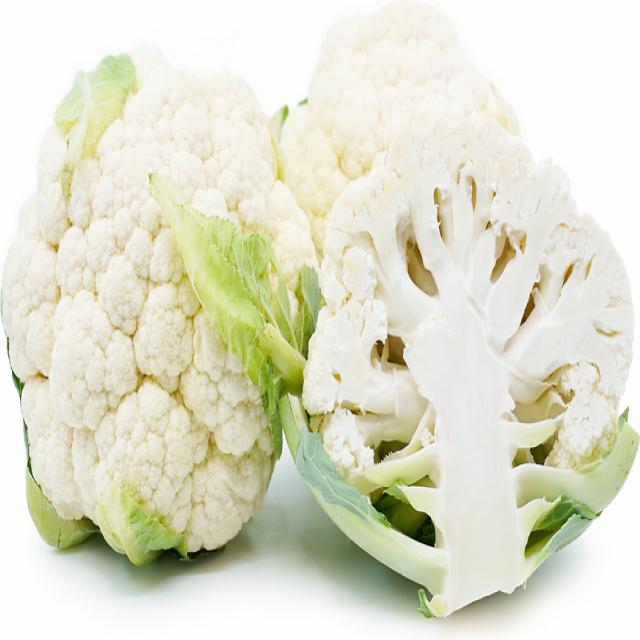cauliflower: (285, 0, 640, 636), (10, 46, 322, 578)
